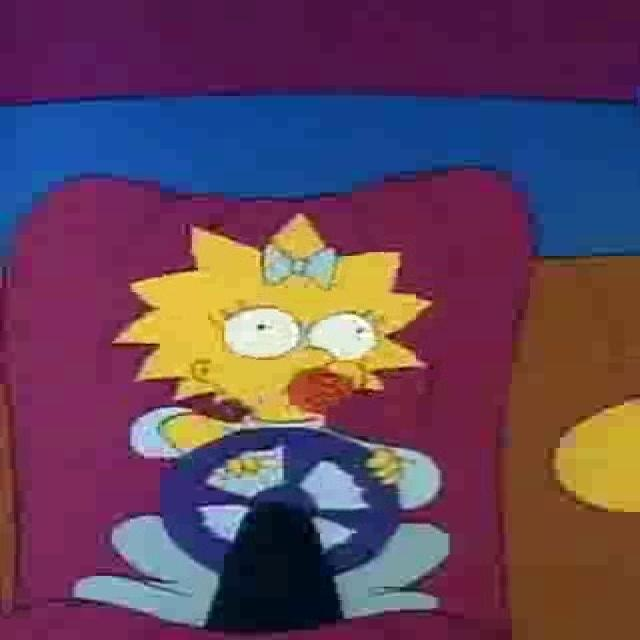Maggie Simpson: (106, 208, 434, 427)
